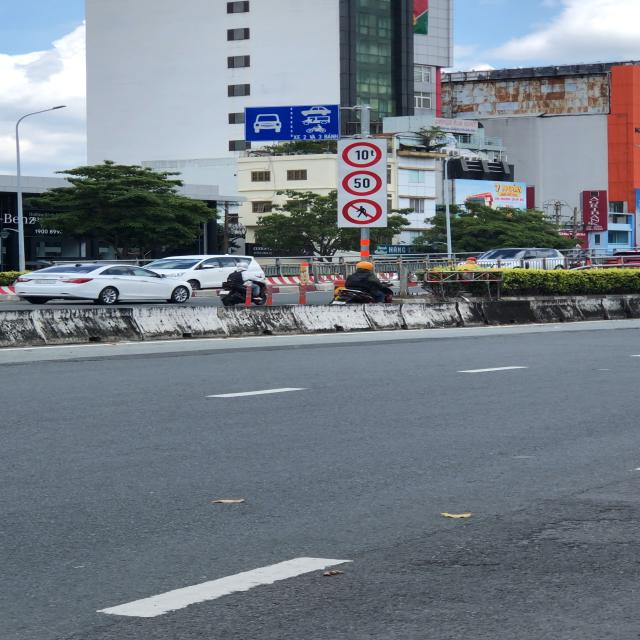Bien bao cam nguoi di bo: (340, 197, 386, 225)
Bien bao toc do toi da cho phep: (340, 170, 381, 195)
